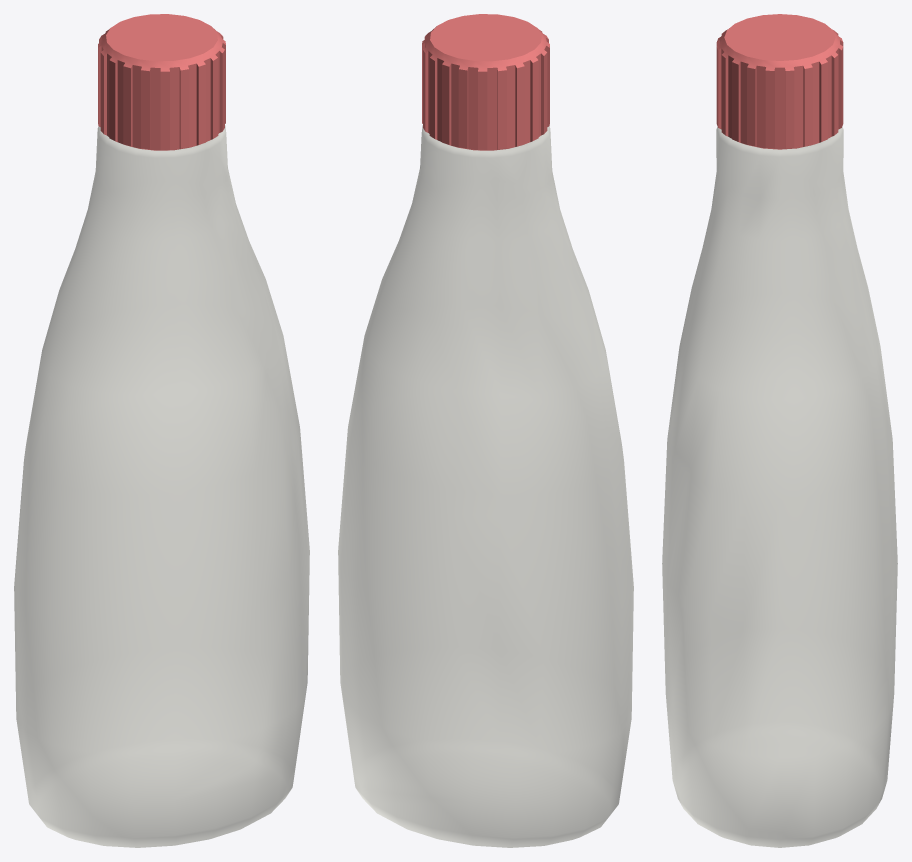
File: mayonaise_empty.fbx
3 renders of one model, left to right at view 1: azimuth 30°, elevation 25°; view 2: azimuth 150°, elevation 25°; view 3: azimuth 270°, elevation 25°, orthographic.
Visible parts, largest first — view 1: mayonaise_empty; view 2: mayonaise_empty; view 3: mayonaise_empty.
Boxes of the visible parts, x1,y1,x2,y2 form: mayonaise_empty: [14, 14, 309, 847]; mayonaise_empty: [338, 14, 633, 847]; mayonaise_empty: [662, 14, 897, 847].
Size of the model in its own units: 5.24 by 14.1 by 3.97.
